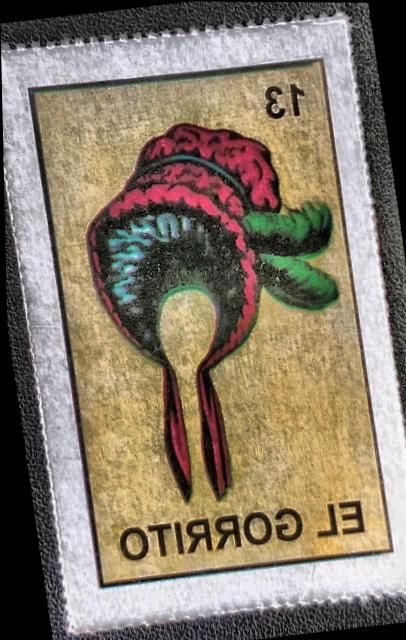El Gorrito: (1, 33, 406, 613)
